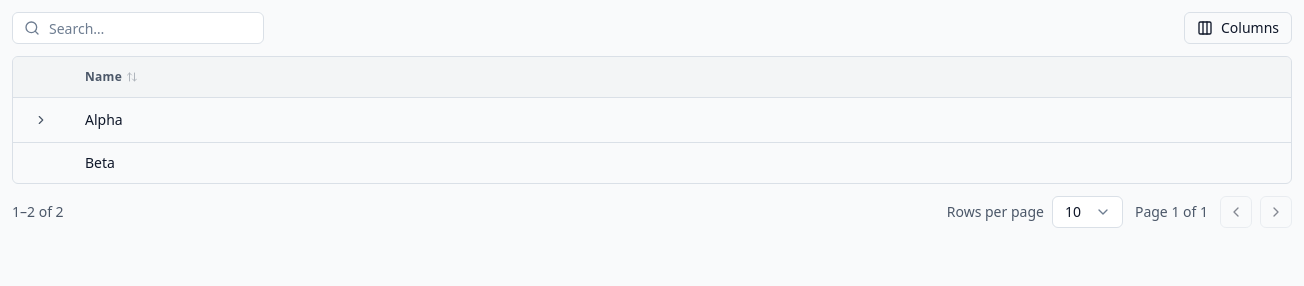
Test: DataTable › expandable sub-rows › clicking the chevron expands the row and reveals sub-rows
Expected: the text "Alpha-1" is not shown
Click the button named "Expand row". click: (41, 120)
box: [29,108,53,132]
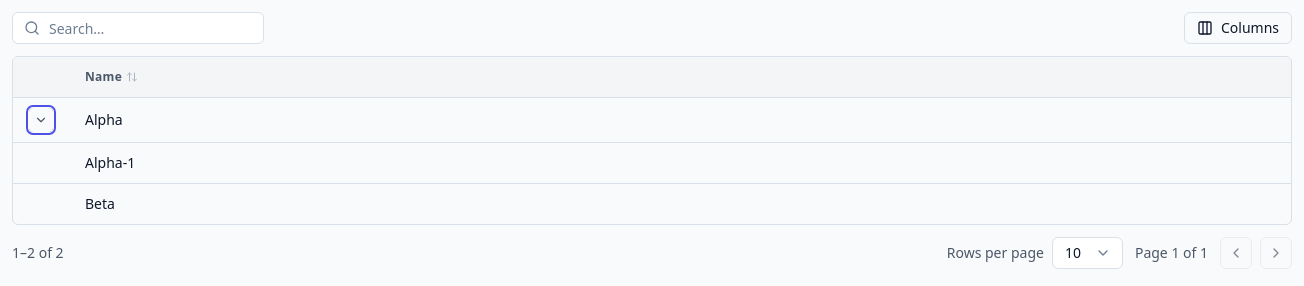
Now the text "Alpha-1" is shown, box [69,142,1291,184]
Now the button named "Collapse row" is expanded, box [29,108,53,132]
